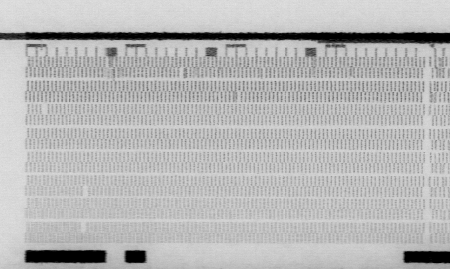Broken hole: (38, 101, 51, 115), (78, 220, 90, 235), (80, 187, 92, 198)
Oblique printing: (431, 140, 450, 199), (431, 56, 450, 101), (102, 54, 120, 69), (306, 54, 319, 69), (257, 67, 270, 81), (229, 91, 242, 103), (177, 66, 191, 77), (345, 65, 356, 78)
